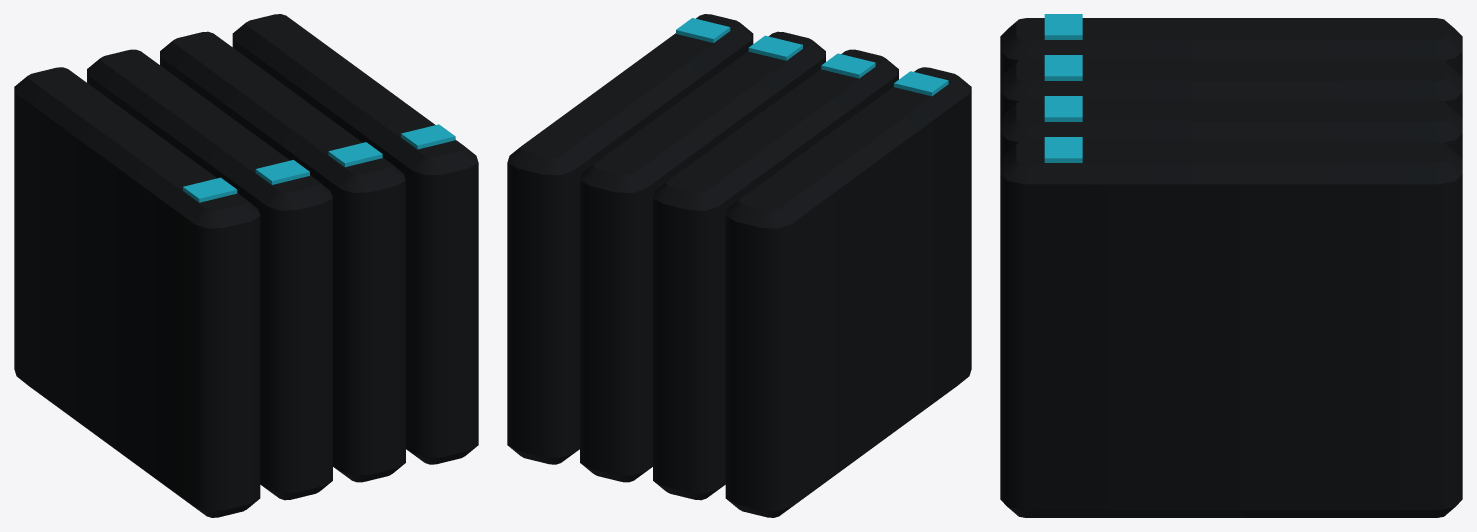
The model's file is mcc1_memory.obj.
3 renders of one model, left to right at view 1: azimuth 30°, elevation 25°; view 2: azimuth 150°, elevation 25°; view 3: azimuth 270°, elevation 25°, orthographic. The views are drawn at different scales.
Visible parts, largest first — view 1: mcc1_memory; view 2: mcc1_memory; view 3: mcc1_memory.
Boxes of the visible parts, <box> form: mcc1_memory: <box>14,14,478,517</box>; mcc1_memory: <box>507,14,971,517</box>; mcc1_memory: <box>1000,14,1462,517</box>.
Size of the model in its own units: 0.5925 by 0.626 by 0.73.
